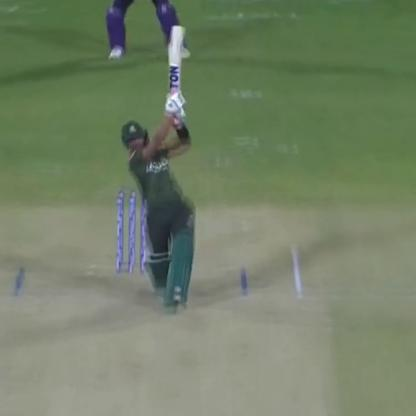bat: (163, 21, 185, 121)
pitch: (1, 246, 340, 415)
